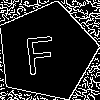F: (22, 27, 58, 75)
